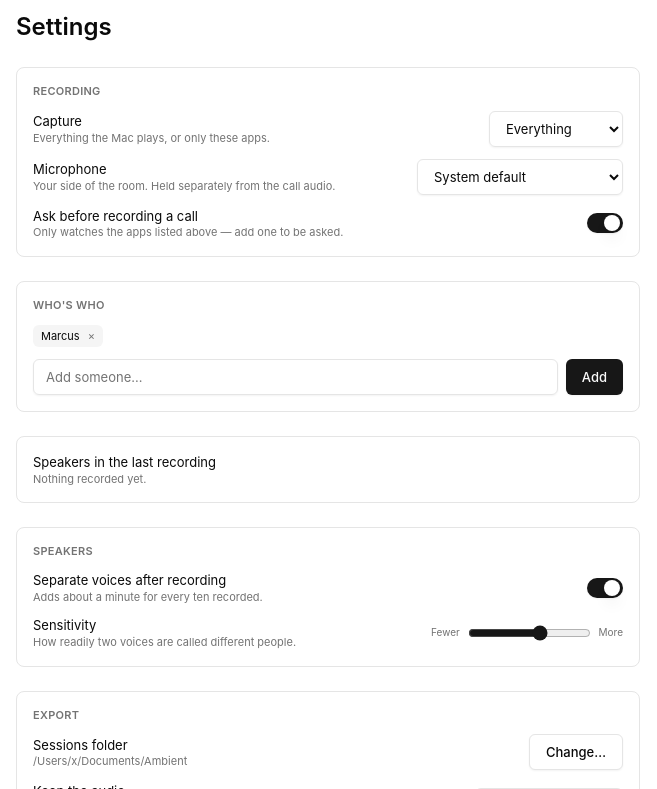
Scenario: Settings › a config.set that rejects while changing the sessions folder renders the refusal
This screenshot has width=657, height=789.
Step 1. Click the button "Change…" → (576, 752), box [529,734,623,770]
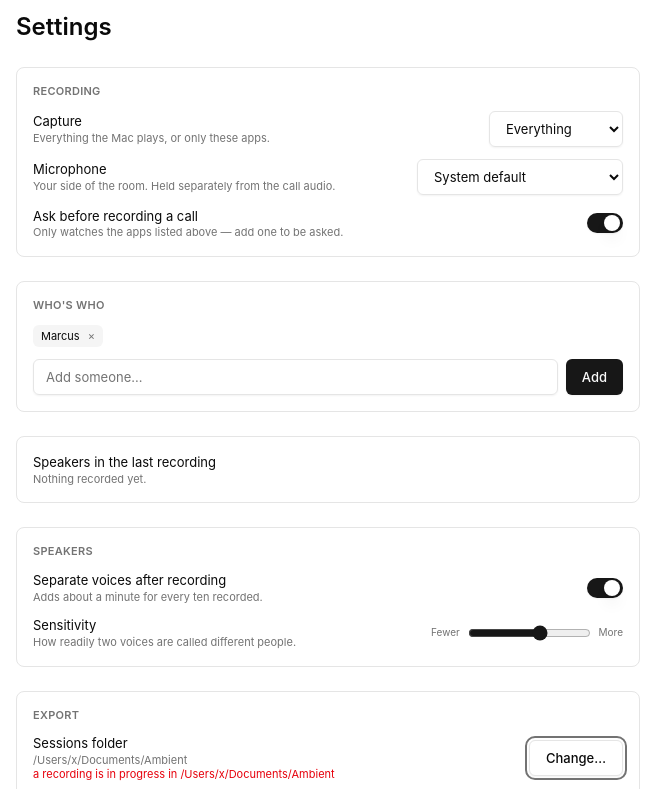
expect the text "a recording is in progress in /Users/x/Documents/Ambient" is shown: met, box [33,767,335,782]
